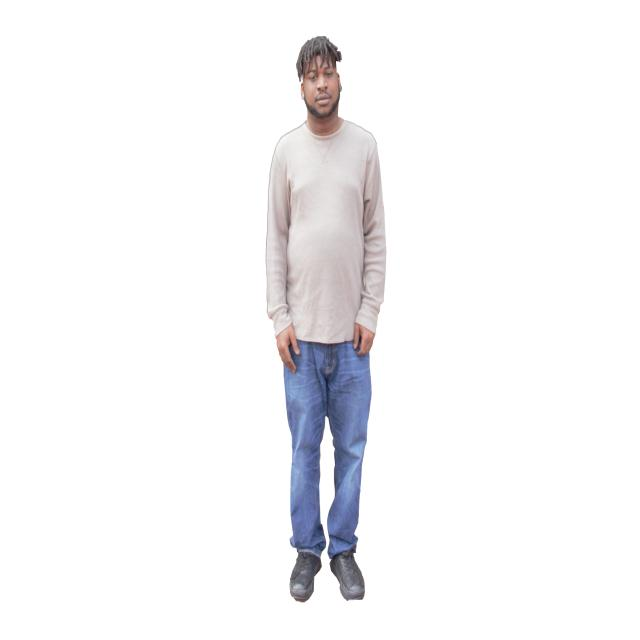jovem: (259, 29, 404, 606)
